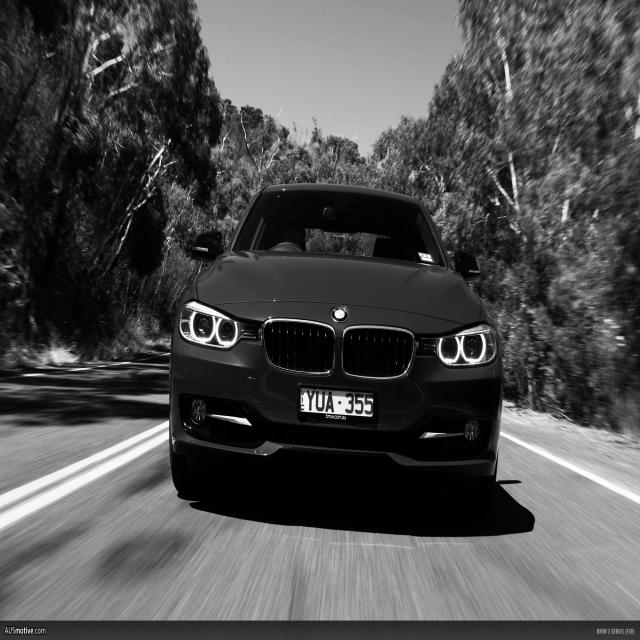car: (168, 182, 503, 512)
plat_license: (297, 382, 376, 422)
